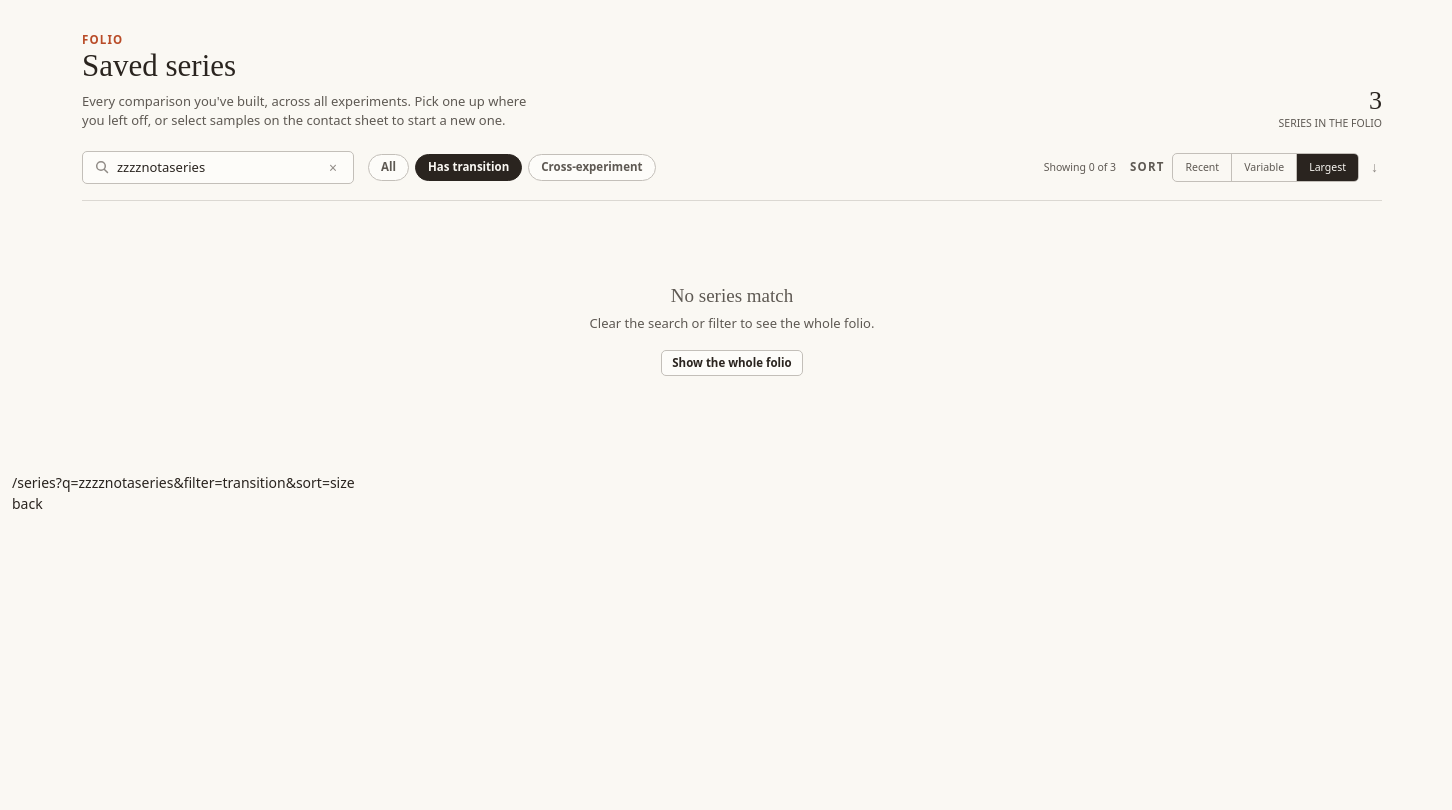
SeriesFolioPage URL round-trip (FOL P2-3) › 'Show the whole folio' clears q + filter params; the sort param SURVIVES
The image size is (1452, 810).
Expected: the heading "No series match" is shown, [671,285,793,306]
What coordinates should you click on to do the following:
click the button "Show the whole folio"
I would click on:
 (732, 363)
Its box is [661,350,803,376].
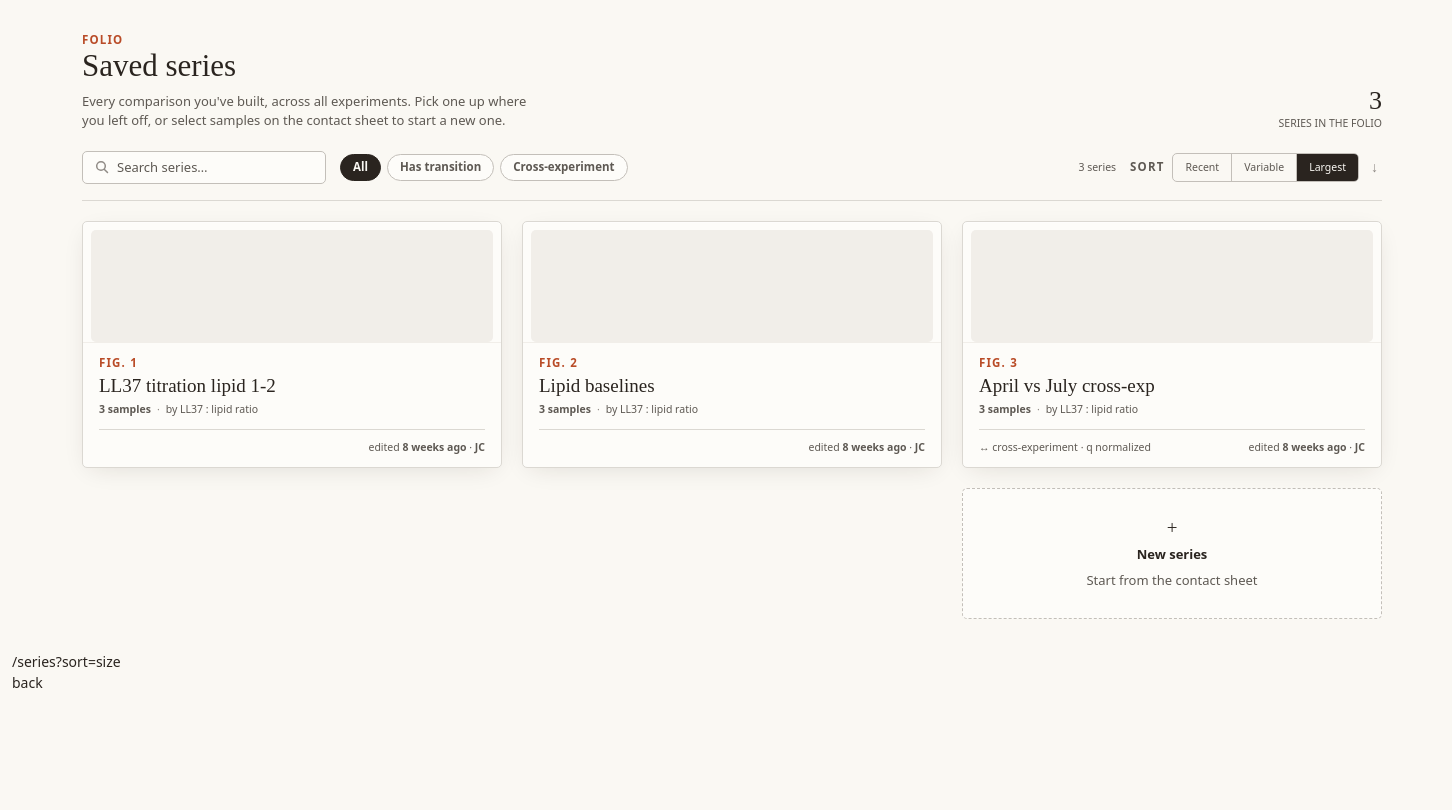
Expected: the text with test id "loc" reads "/series?sort=size", [12,652,121,671]
Expected: the number of elements with test id "series-card" is 3, [82,221,502,468]; [522,221,942,468]; [962,221,1382,468]
